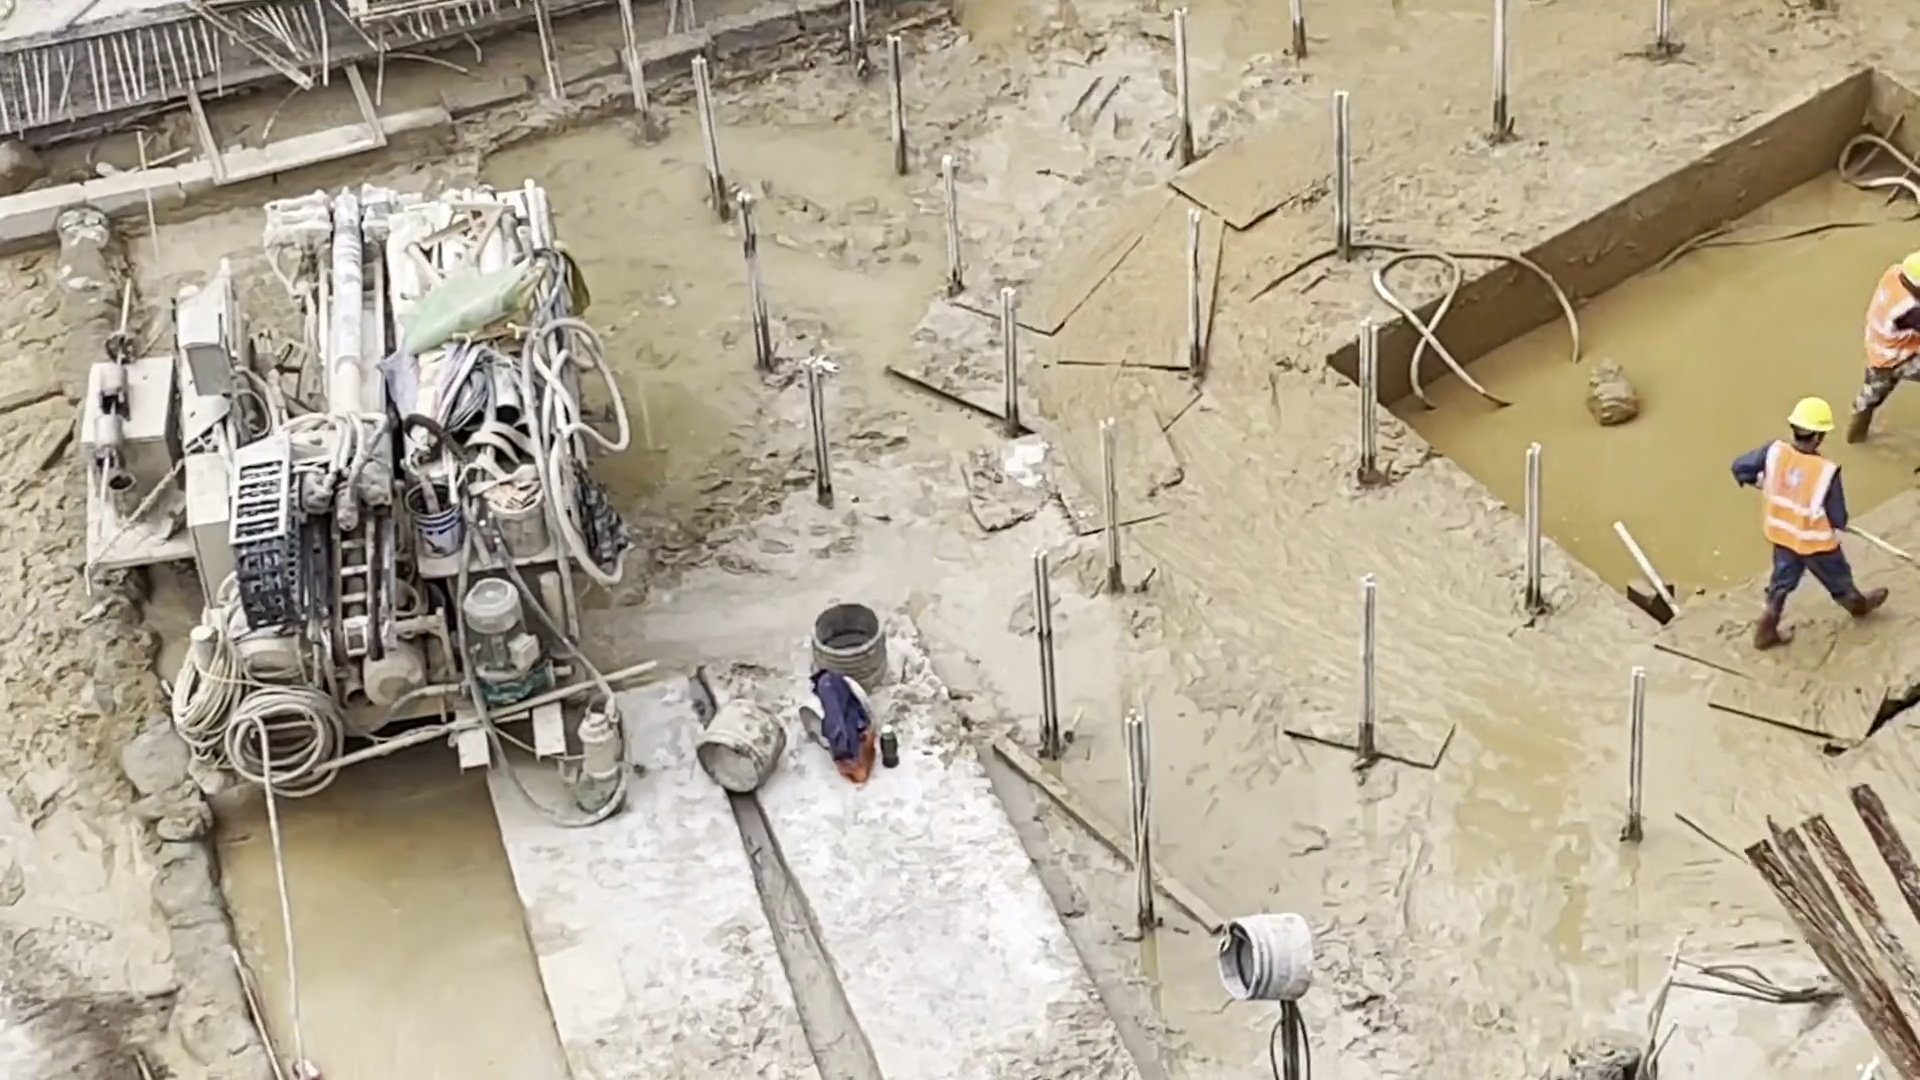helmet: (1787, 398, 1839, 433), (1900, 252, 1920, 284)
person: (1729, 397, 1891, 646), (1846, 250, 1920, 439)
vest: (1766, 441, 1844, 563), (1862, 264, 1920, 368)
